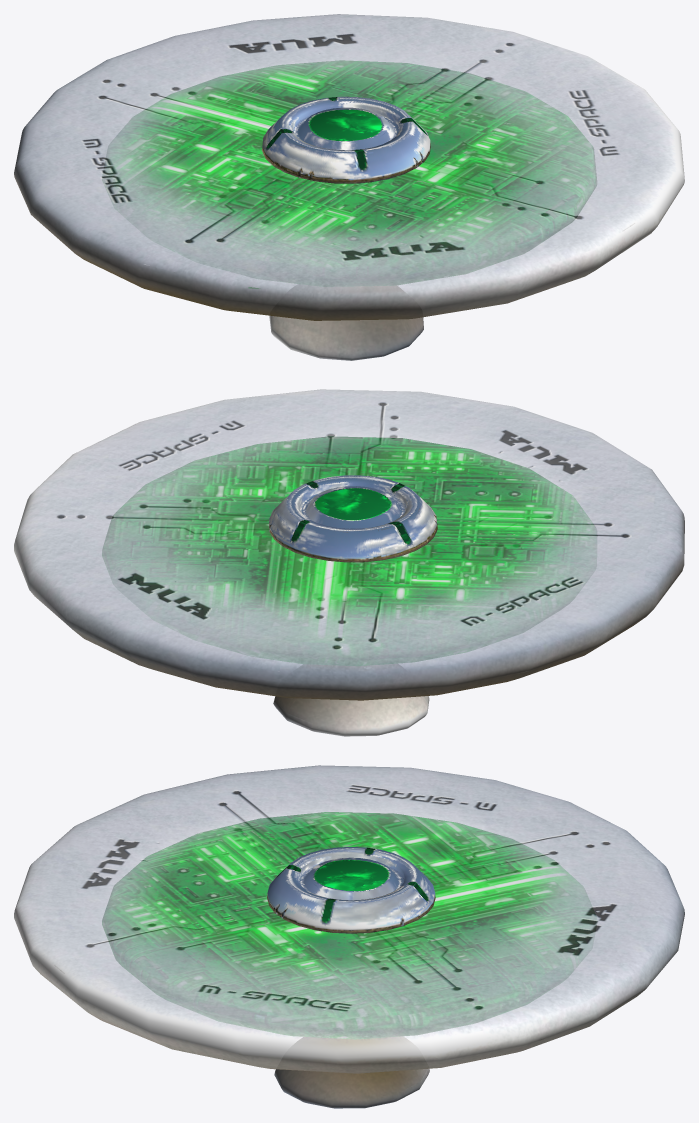
The model's file is TatemanRoundChair.glb.
3 renders of one model, top to bottom at view 1: azimuth 30°, elevation 25°; view 2: azimuth 150°, elevation 25°; view 3: azimuth 270°, elevation 25°, orthographic.
Visible parts, largest first — view 1: Retopo_融球.026, Retopo_融球.025, 柱体, Retopo_球体.007; view 2: Retopo_融球.026, Retopo_融球.025, 柱体, Retopo_球体.007; view 3: Retopo_融球.026, Retopo_融球.025, 柱体, Retopo_球体.007.
Part boxes in pixels (x1,y1,x2,y2): Retopo_融球.026: [14, 14, 684, 320]; Retopo_融球.025: [113, 60, 596, 286]; 柱体: [262, 96, 430, 183]; Retopo_球体.007: [269, 285, 423, 360]; Retopo_融球.026: [14, 389, 684, 700]; Retopo_融球.025: [102, 436, 594, 665]; 柱体: [269, 475, 437, 562]; Retopo_球体.007: [273, 664, 429, 736]; Retopo_融球.026: [14, 765, 684, 1073]; Retopo_融球.025: [102, 812, 580, 1039]; 柱体: [267, 847, 435, 933]; Retopo_球体.007: [274, 1036, 429, 1108].
Size of what is drawn, in the model's own units: 3.18 by 1.09 by 3.18.
2 materials, 2 textured.
